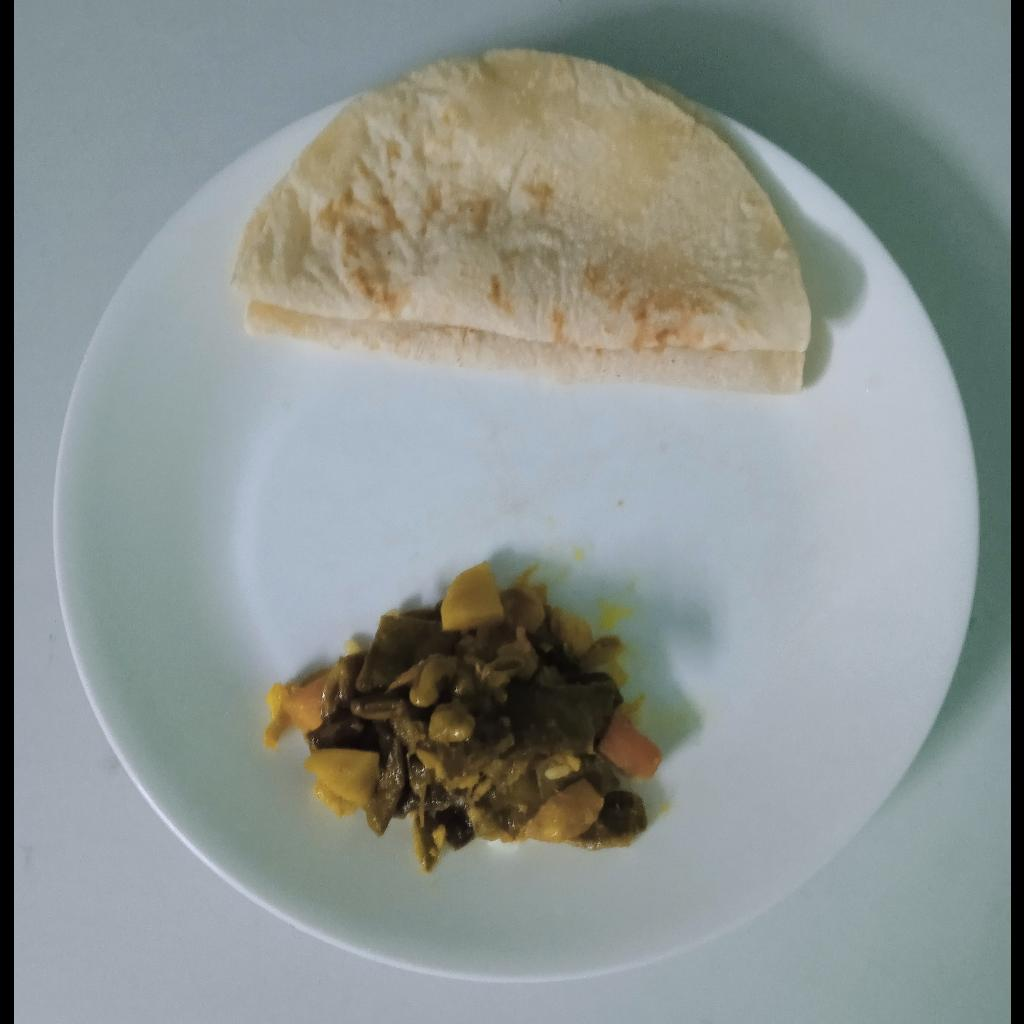ruti: (229, 48, 809, 394)
vegetable: (266, 557, 664, 874)
